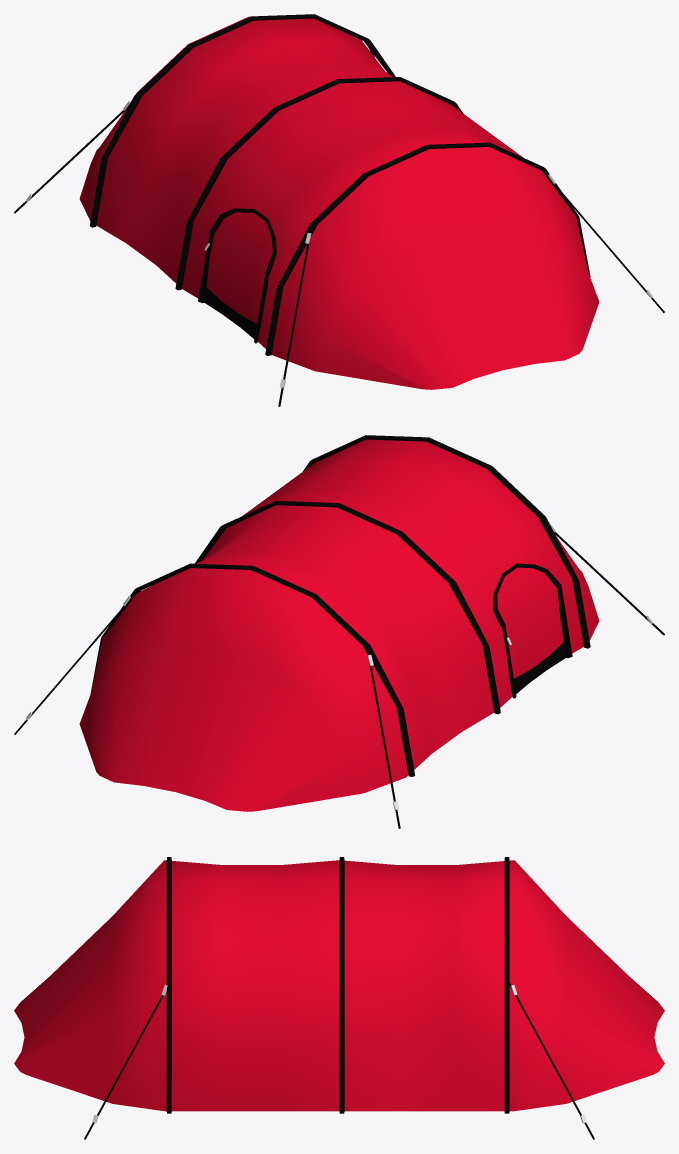
Rendered from scientistCamp.fbx.
3 views of the same model, one above another, from view 1: azimuth 30°, elevation 25°; view 2: azimuth 150°, elevation 25°; view 3: azimuth 270°, elevation 25° (orthographic). The views are drawn at different scales.
Parts seen in each view (by area): view 1: Cylinder.002; view 2: Cylinder.002; view 3: Cylinder.002.
Boxes of the visible parts, left/top/right/bottom form: Cylinder.002: left=14, top=14, right=664, bottom=406; Cylinder.002: left=14, top=435, right=664, bottom=828; Cylinder.002: left=14, top=857, right=664, bottom=1139.
Size of the model in its own units: 474 by 214 by 718.
